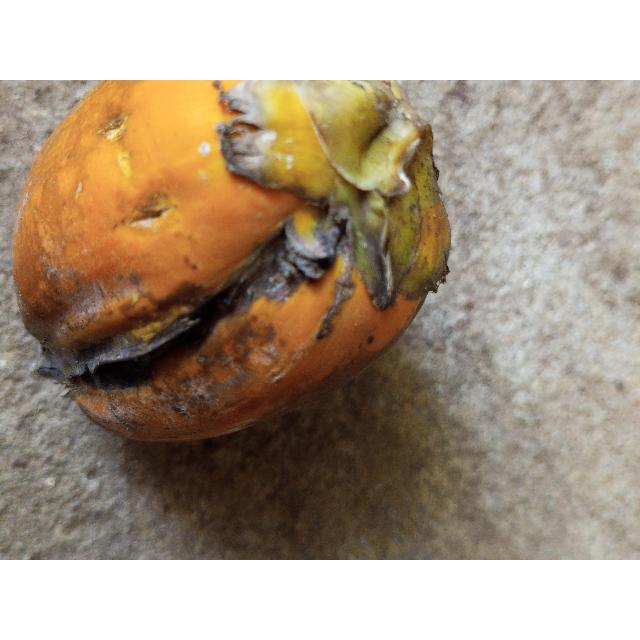damaged: (13, 80, 450, 440)
